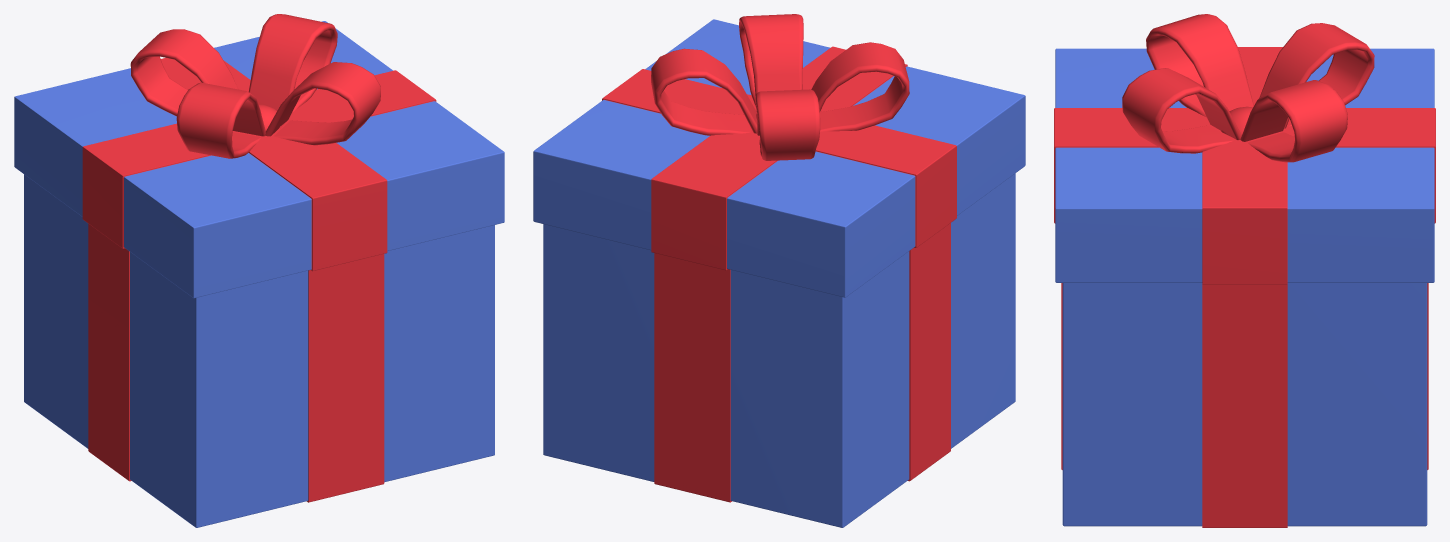
The model's file is present2.glb.
3 renders of one model, left to right at view 1: azimuth 30°, elevation 25°; view 2: azimuth 150°, elevation 25°; view 3: azimuth 270°, elevation 25°, orthographic. The views are drawn at different scales.
Parts seen in each view (by area): view 1: pCube1, pCube2, pCube7, pCube6, pCube8, pCube9; view 2: pCube1, pCube2, pCube7, pCube6, pCube8, pCube9; view 3: pCube1, pCube2, pCube6, pCube7, pCube8, pCube9.
Boxes of the visible parts, x1,y1,x2,y2 form: pCube1: (24,174,494,527); pCube2: (14,21,504,298); pCube7: (248,14,337,111); pCube6: (176,82,265,158); pCube8: (265,62,380,145); pCube9: (130,29,238,116); pCube1: (543,173,1015,527); pCube2: (533,19,1025,297); pCube7: (651,48,757,135); pCube6: (811,42,909,131); pCube8: (739,14,803,112); pCube9: (756,89,820,160); pCube1: (1061,283,1428,527); pCube2: (1054,47,1435,284); pCube6: (1146,14,1253,117); pCube7: (1240,80,1347,162); pCube8: (1122,68,1241,153); pCube9: (1259,23,1374,128).
Size of the model in its own units: 0.2813 by 0.3195 by 0.2813.
Materials: 1 (1 with a texture image).
